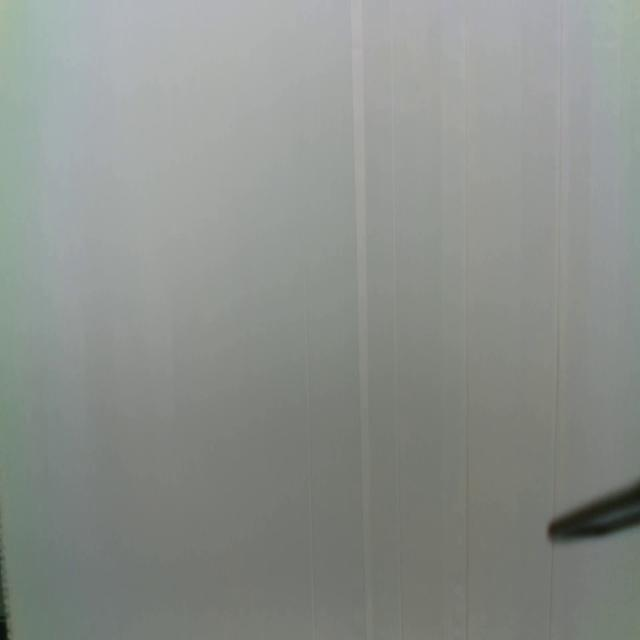crease: (350, 0, 375, 640), (389, 0, 404, 632), (302, 280, 318, 640), (463, 1, 471, 640), (554, 1, 564, 510), (546, 544, 556, 638)
